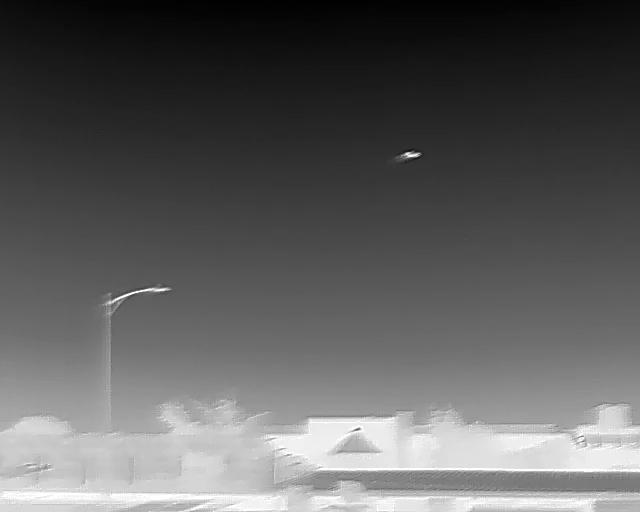fpv-drone: (395, 150, 421, 162)
